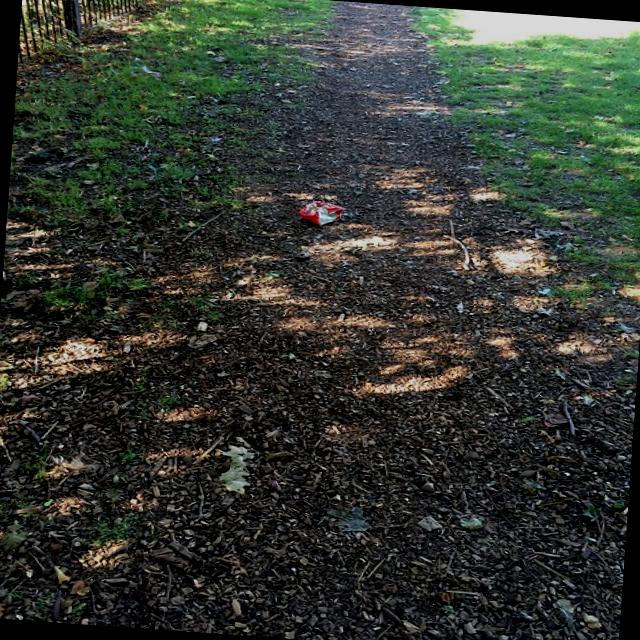Trash: (301, 194, 345, 228)
